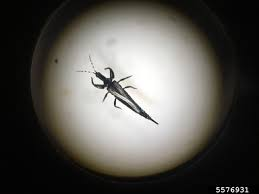Phlaeothripidae: (74, 55, 161, 126)
